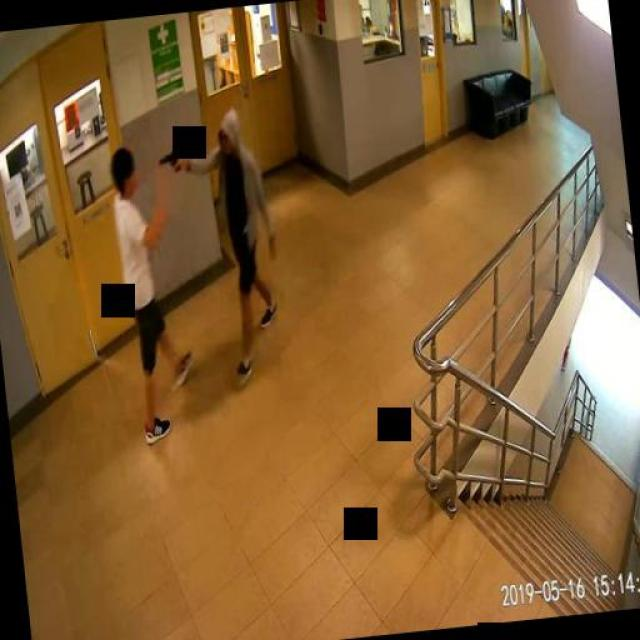gun: (156, 147, 180, 175)
